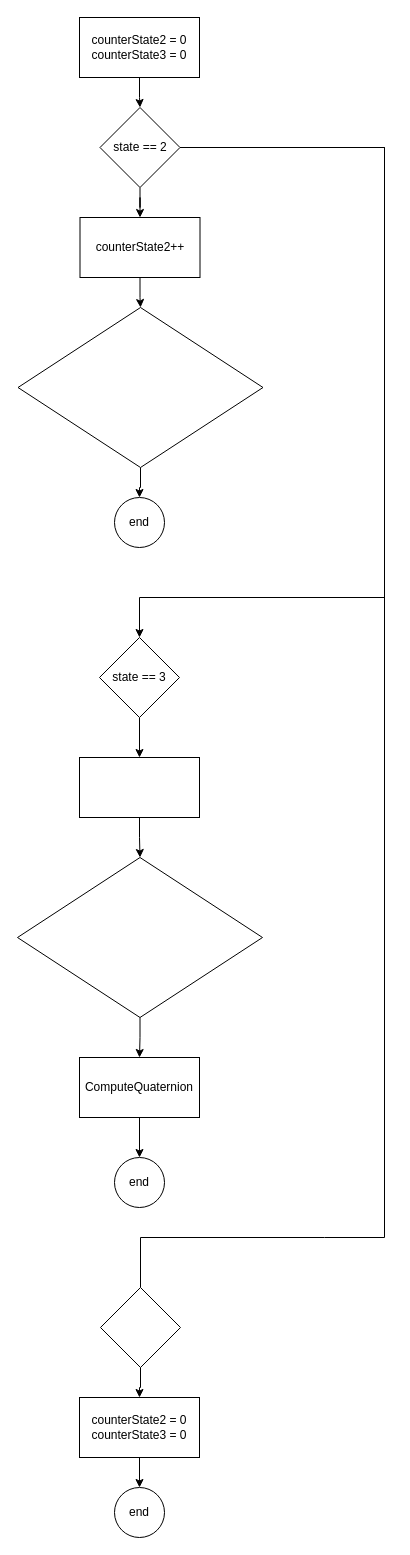
The diagram is 410 pixels wide and 1555 high, and some of its shapes have lost their labels. The box of each missing label's shape, as (x1, y1, x2, y2) in pixels:
counterState2 < numberToAdjustState2: (17, 306, 263, 468)
counterState3 < numberToAdjustState3: (16, 856, 262, 1018)
counterState3++: (78, 756, 200, 818)
state == 1: (100, 1286, 180, 1368)
